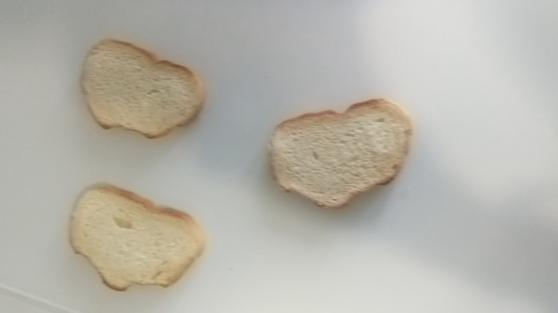white_bread: (271, 99, 415, 210), (71, 183, 207, 290), (81, 41, 203, 142)
